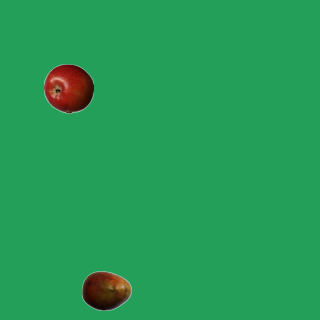Apple Braeburn: (43, 63, 93, 113)
Mango Red: (81, 265, 131, 315)
